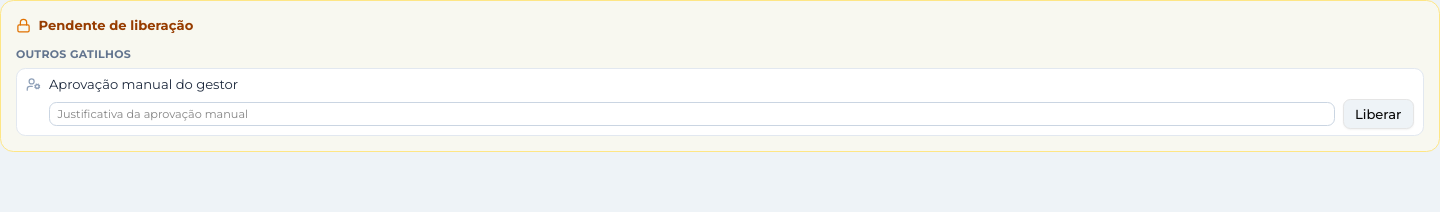
Test: TaskReleaseBlockersPanel › aprovação manual exige justificativa antes de habilitar a chamada
Later steps or results of the test are not shown.
expect the text "Aprovação manual do gestor" is shown: met, box [49, 75, 238, 94]
Click the button "Liberar": (1378, 114) [1343, 99, 1414, 129]
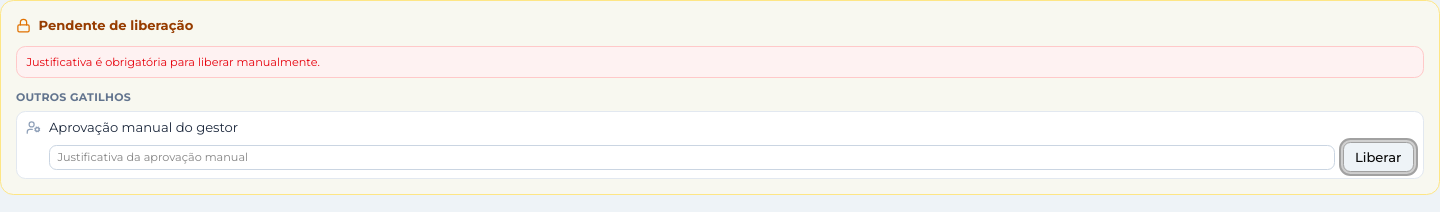
expect the text "Justificativa é obrigatória para liberar manualmente." is shown: met, box [16, 46, 1424, 78]
